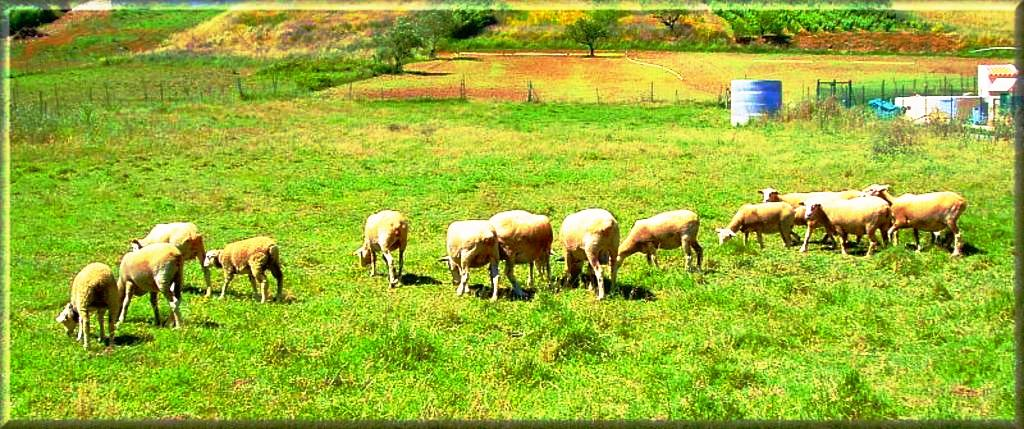Sheep: (858, 180, 962, 258), (554, 212, 627, 302), (613, 207, 709, 271), (123, 224, 206, 296), (56, 262, 124, 348), (208, 232, 282, 311), (114, 242, 181, 328), (438, 220, 508, 296), (798, 198, 892, 254), (759, 183, 851, 238), (714, 201, 804, 256), (486, 206, 552, 278), (350, 208, 410, 281)
